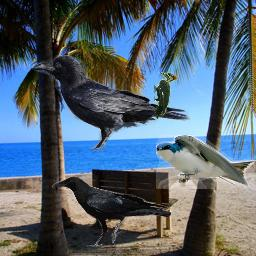Crow: (32, 55, 190, 152), (52, 175, 171, 247)
Swallow: (156, 135, 255, 189)
Woodpecker: (154, 72, 178, 119)
